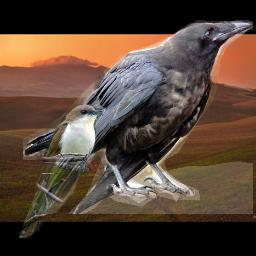Crow: (23, 20, 253, 214)
Cuckoo: (18, 102, 102, 238)
